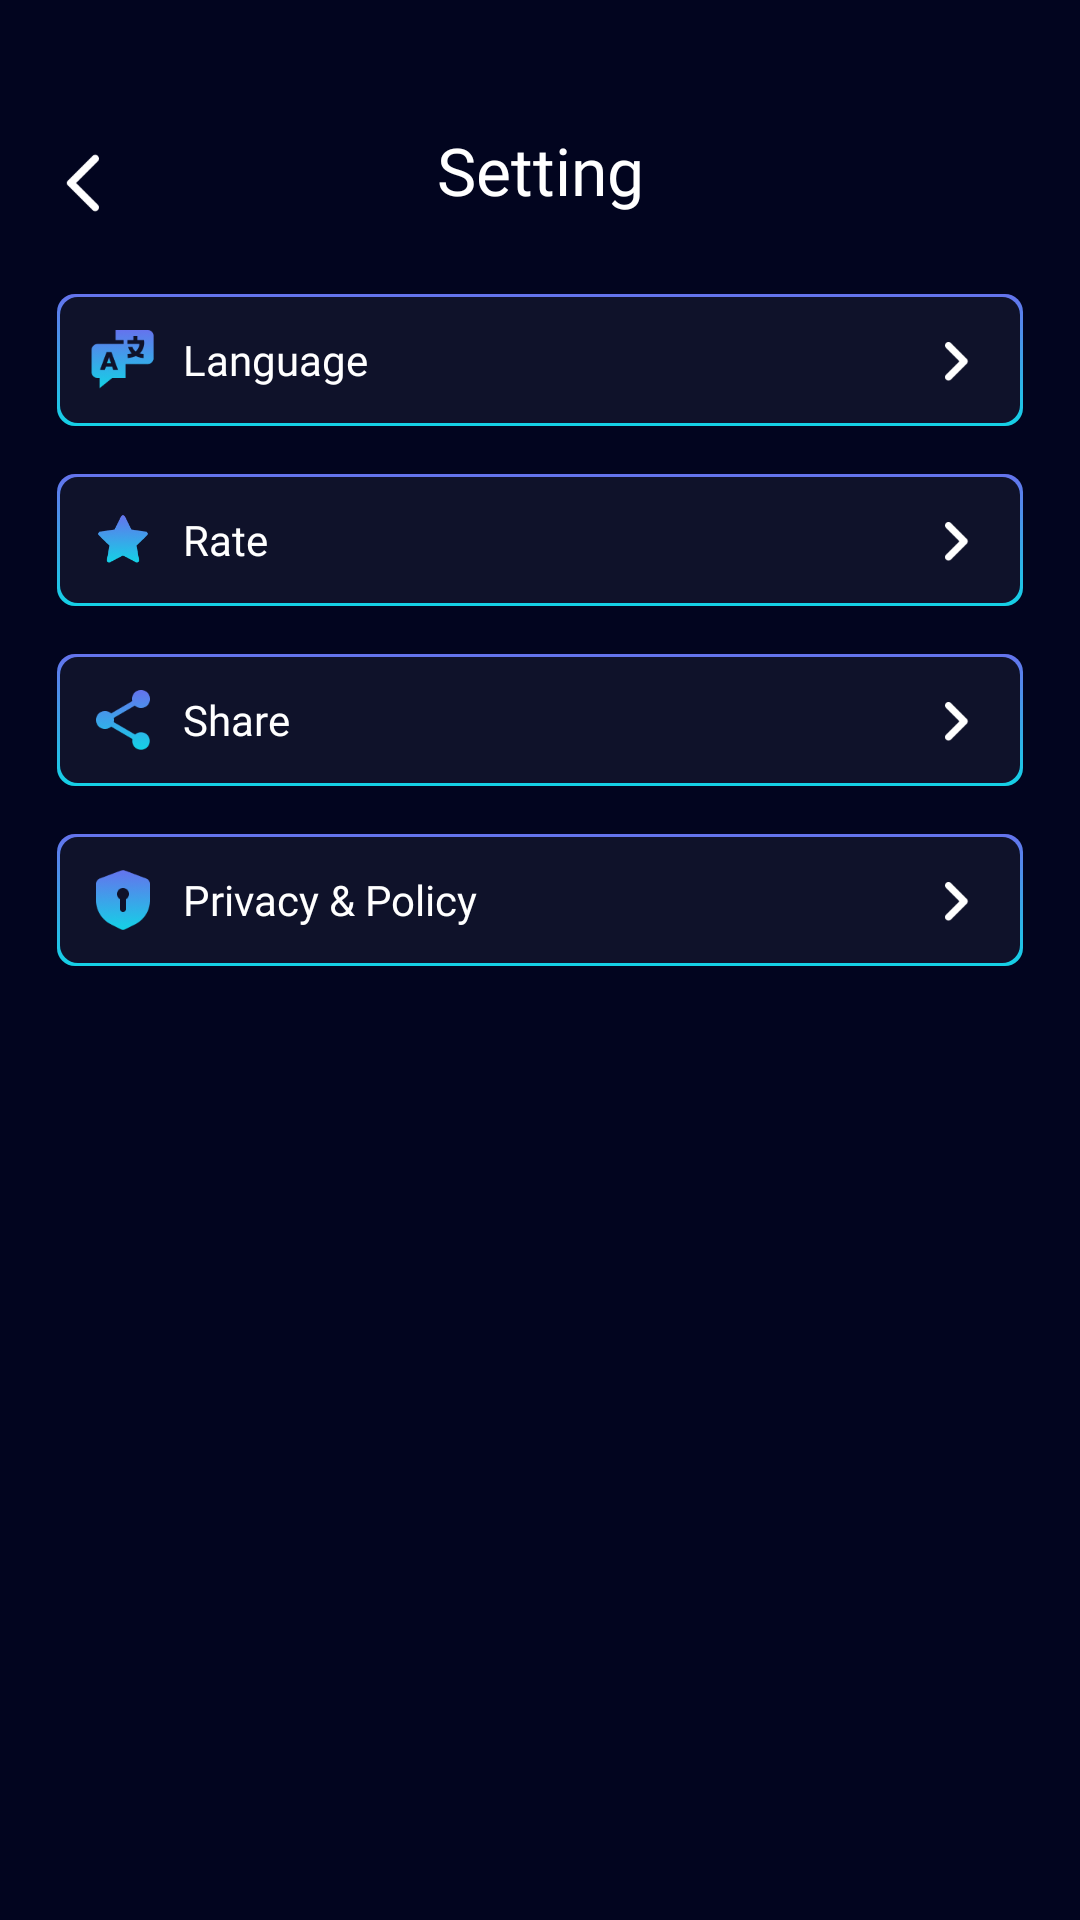

Named icons in this screenshot (1080*1920) and their bounding boxes, (x1, y1, x2, y2):
back: (66, 154, 99, 212)
nextback: (945, 342, 968, 381), (945, 522, 968, 561), (945, 702, 968, 741), (945, 882, 968, 921)
star: (98, 515, 148, 563)
